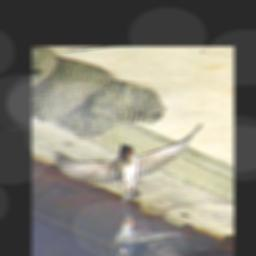Swallow: (50, 121, 206, 206)
